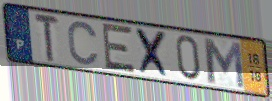0: (175, 34, 203, 82)
C: (66, 20, 101, 68)
E: (101, 21, 137, 75)
M: (201, 35, 247, 91)
T: (33, 12, 62, 65)
X: (134, 26, 173, 81)
